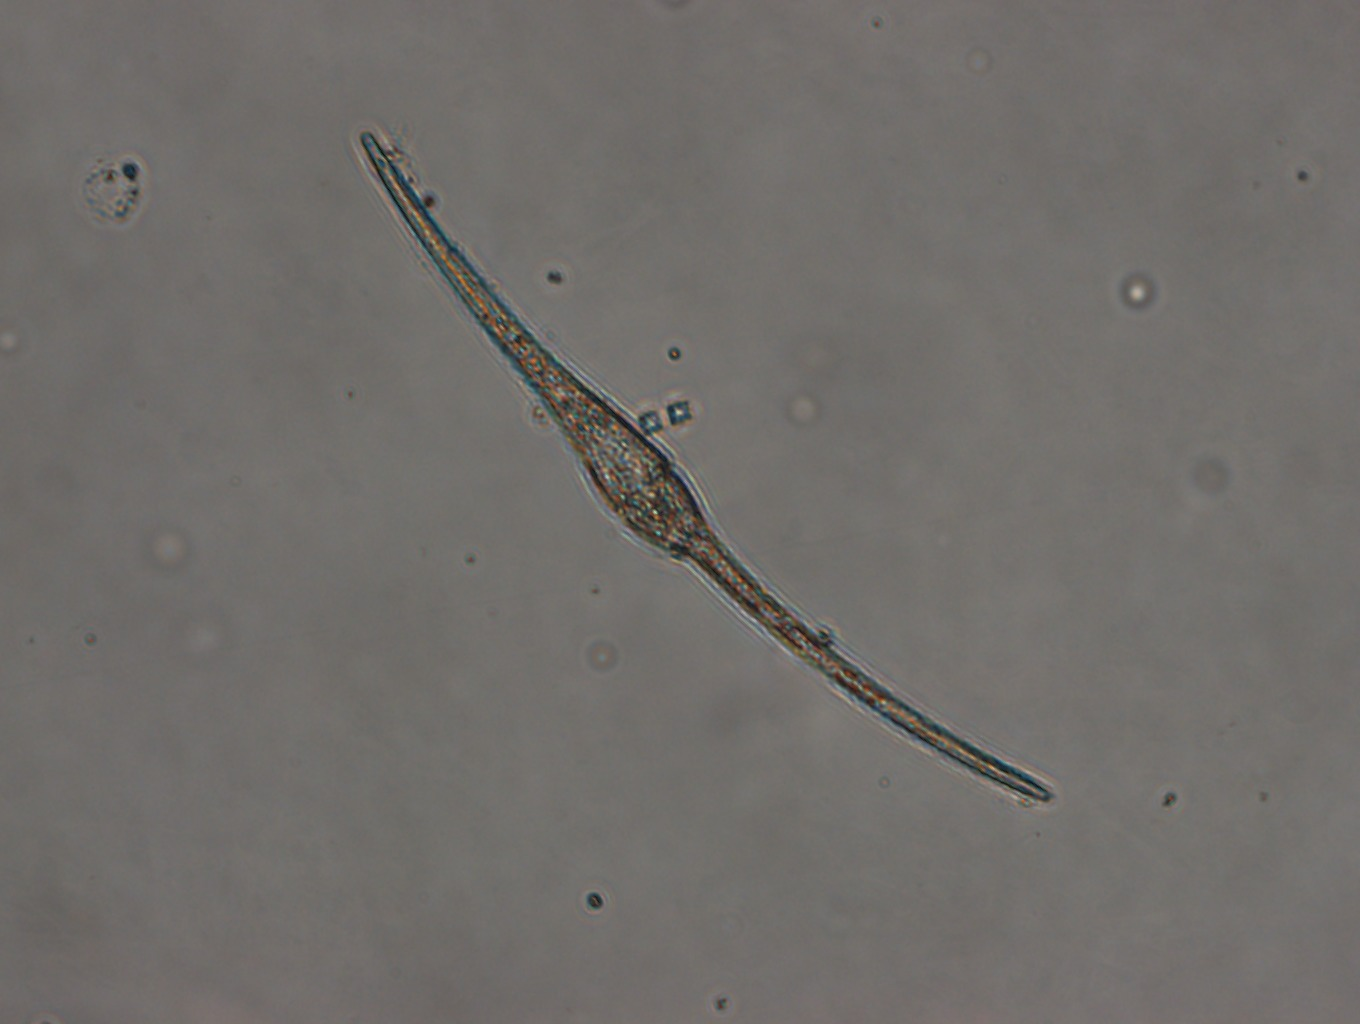ceratium fusus: (353, 122, 1062, 810)
